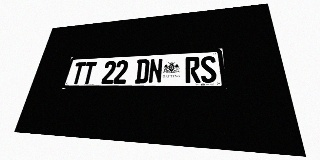2: (113, 60, 129, 84), (101, 61, 117, 84)
D: (134, 59, 150, 84)
N: (148, 58, 163, 83)
R: (185, 57, 201, 83)
S: (200, 56, 217, 83)
T: (81, 61, 97, 84), (70, 62, 86, 84)
